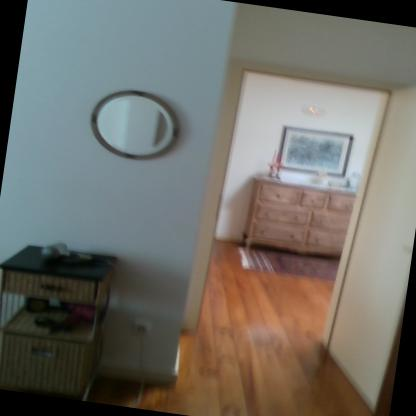open: (171, 41, 415, 415)
